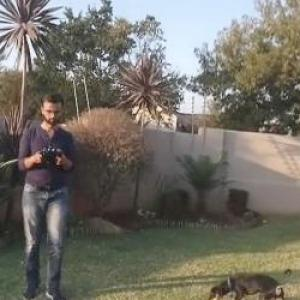follow: (13, 85, 77, 299)
null: (205, 262, 295, 298)
